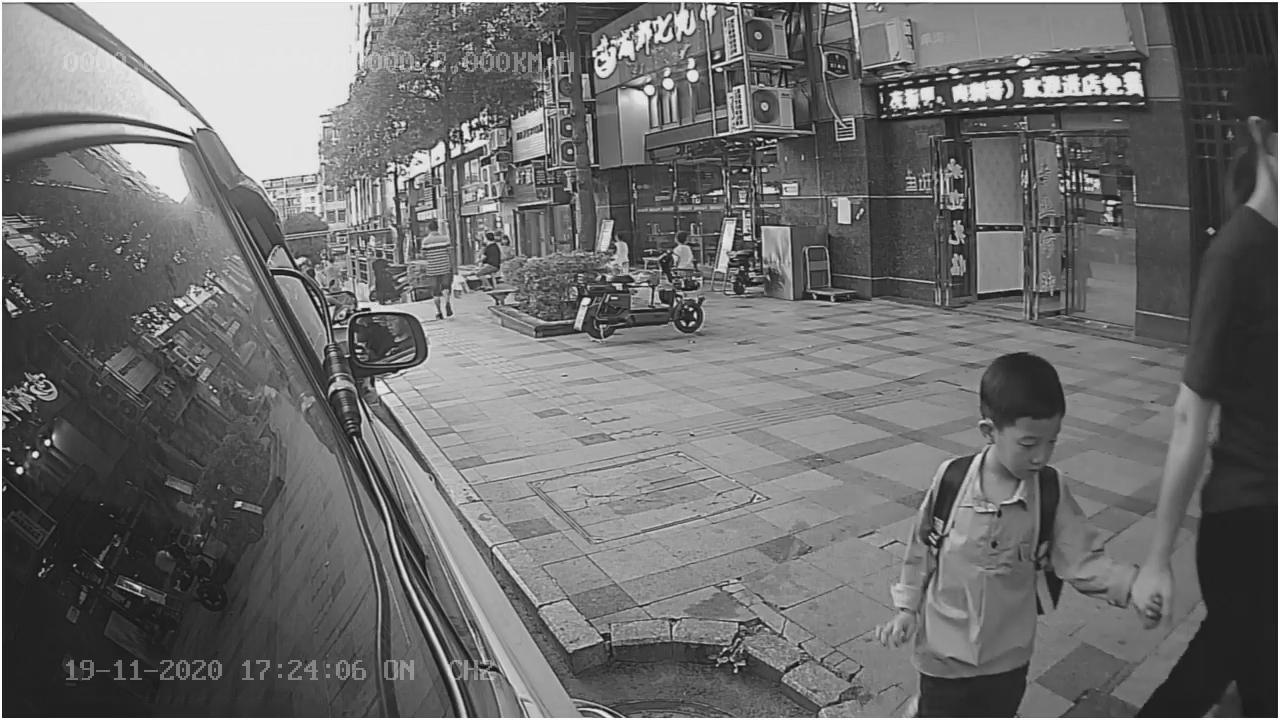person: (868, 344, 1147, 718)
